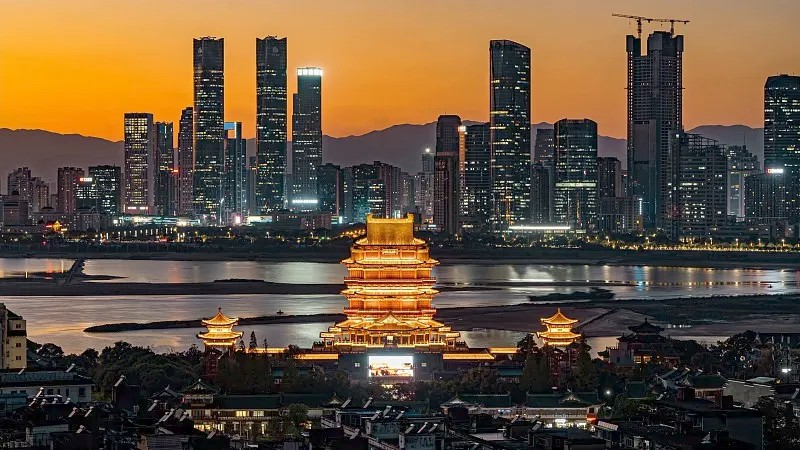Teng: (320, 214, 461, 347)
